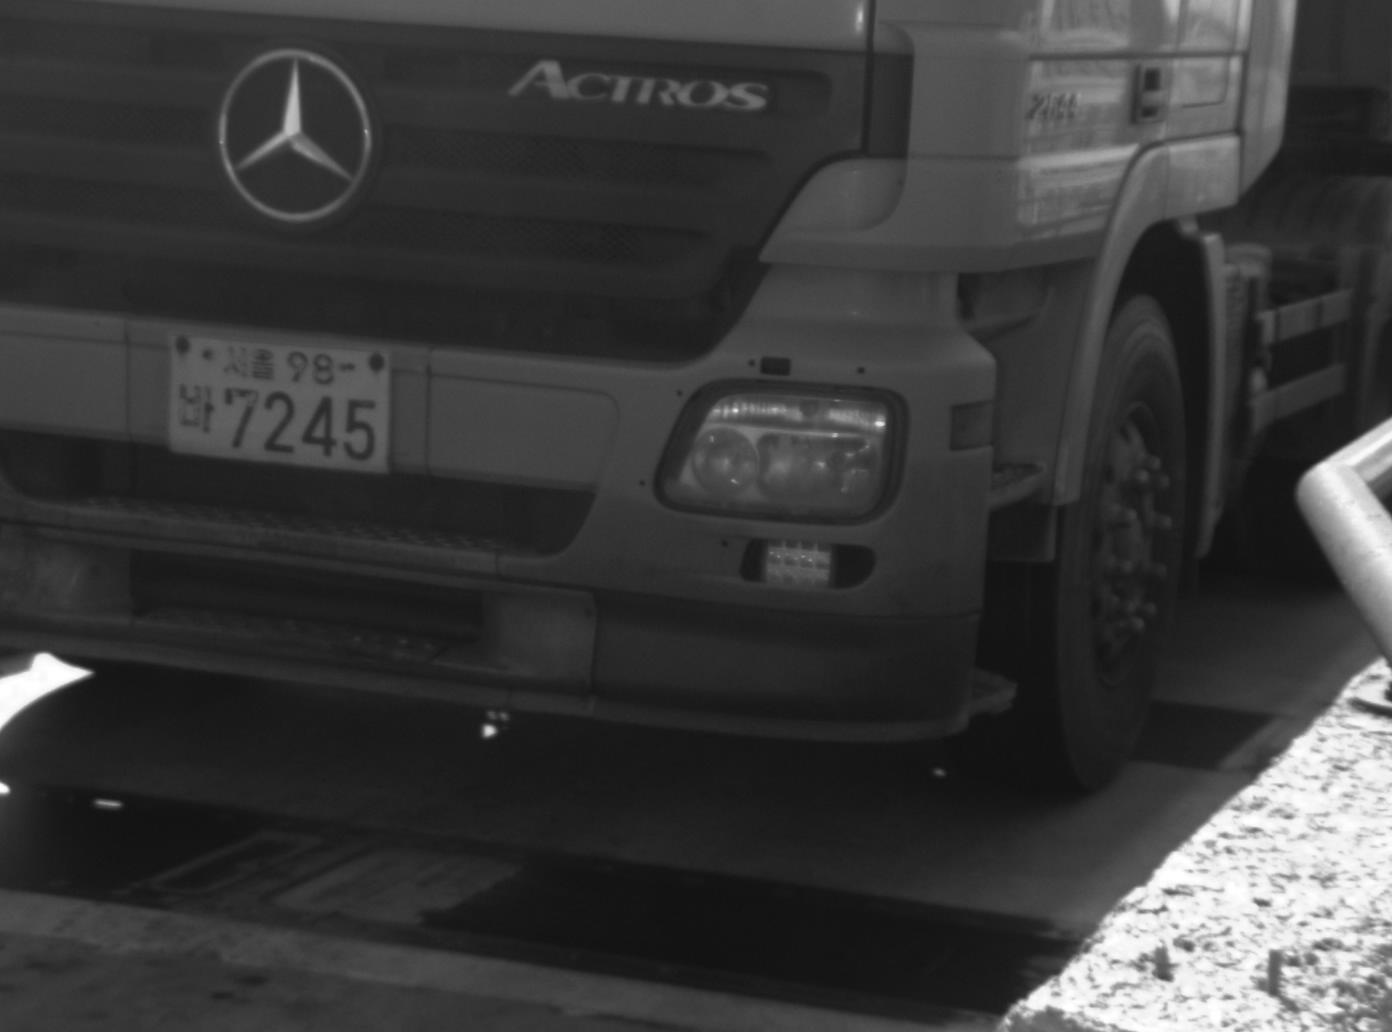car: (1, 1, 1390, 795)
plate: (161, 330, 393, 474)
